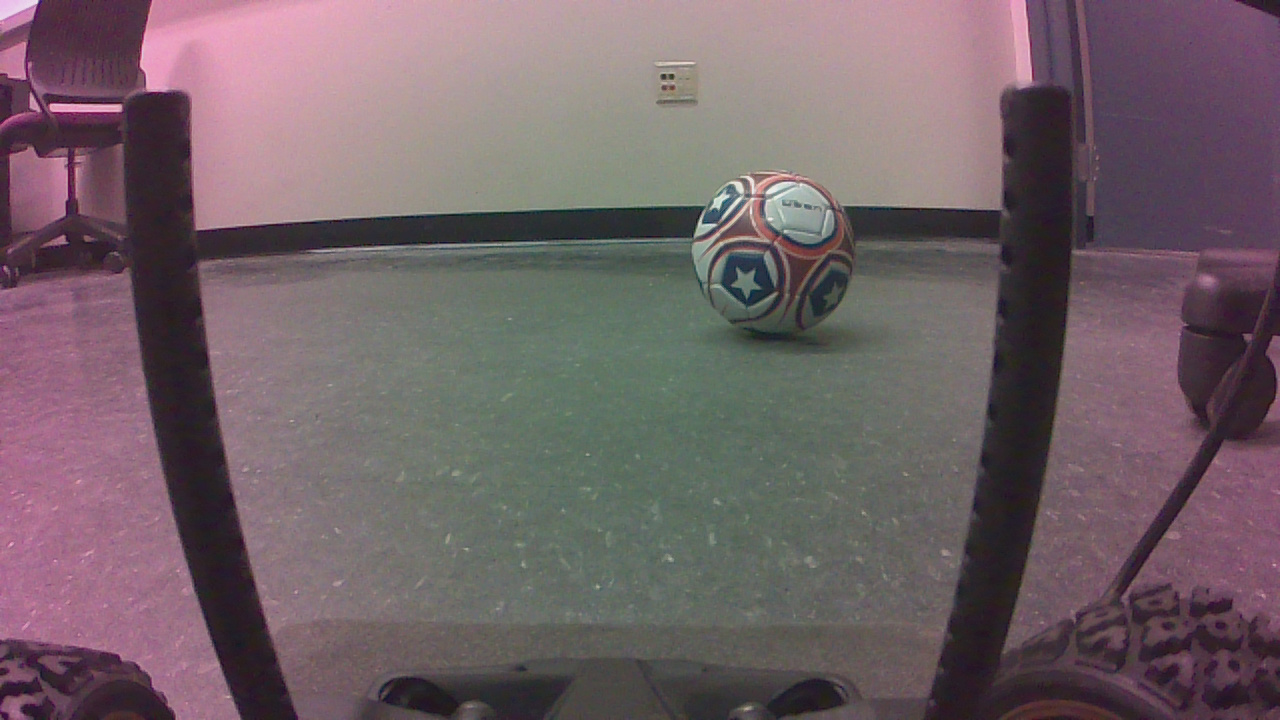ball: (695, 170, 863, 345)
